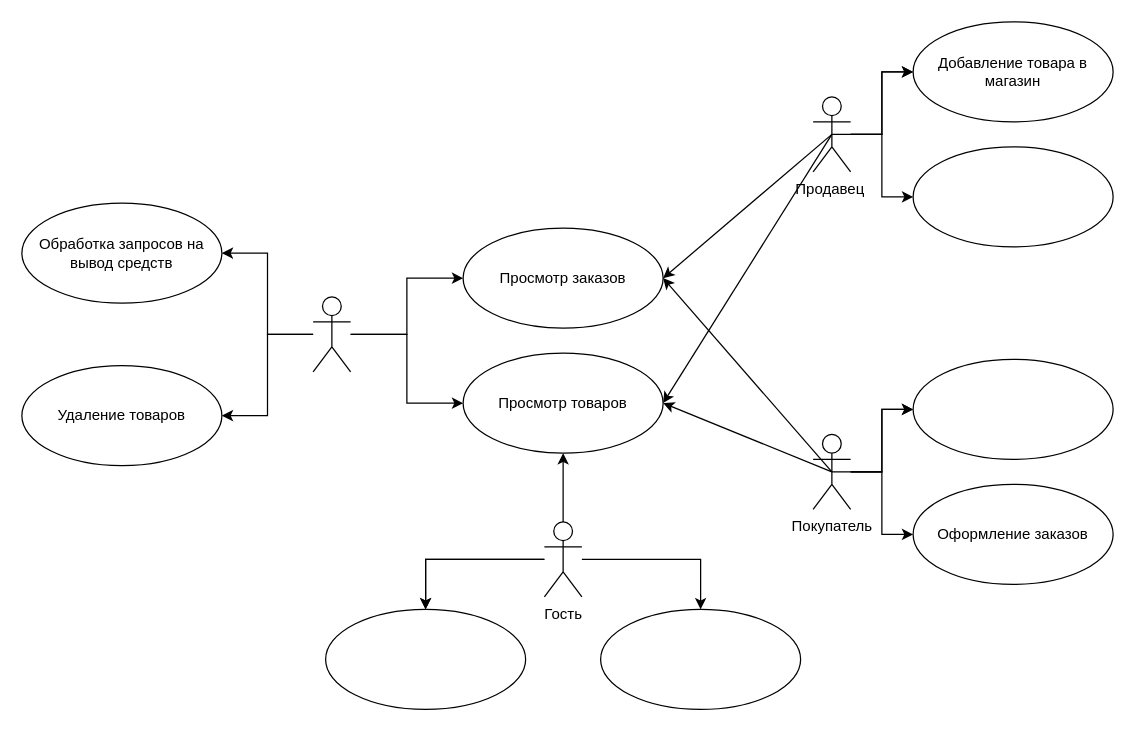
This 1135x731 diagram has some shape labels left out. Here are the shapes that lost their labels. From the top down, the centre of each, then its label:
At point (1012, 196): "Запрос на вывод средств".
At point (331, 334): "Модератор".
At point (1012, 408): "Добавление товаров в корзину".
At point (425, 658): "Регистрация".
At point (700, 658): "Авторизация".
